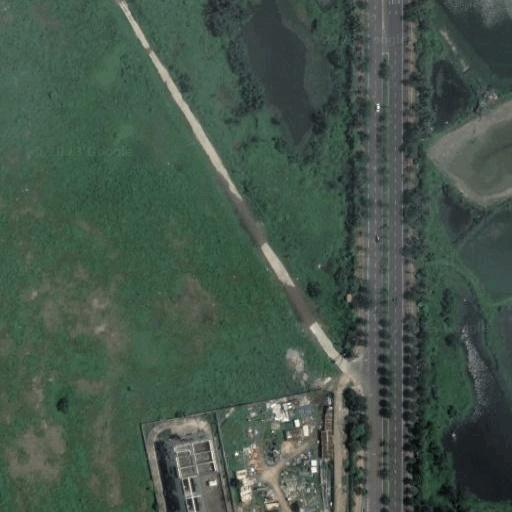building: (163, 434, 218, 512), (321, 431, 334, 458), (326, 407, 334, 431)
